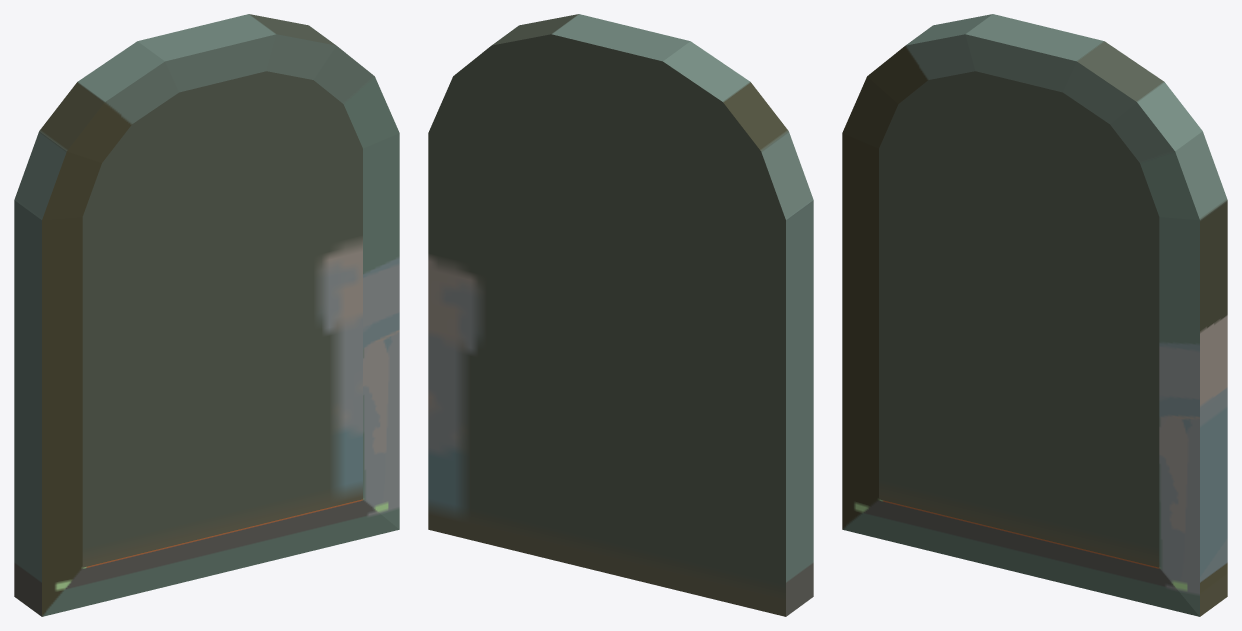
The model's file is door frame.fbx.
The picture shows the model from 3 angles, left to right: view 1: azimuth 30°, elevation 25°; view 2: azimuth 150°, elevation 25°; view 3: azimuth 330°, elevation 25°; orthographic projection.
Visible parts, largest first — view 1: door frame; view 2: door frame; view 3: door frame.
Boxes of the visible parts, x1,y1,x2,y2 form: door frame: (14,14,399,616); door frame: (428,14,813,616); door frame: (842,14,1227,616).
Size of the model in its own units: 373 by 524 by 53.64.
Materials: 1 (1 with a texture image).
